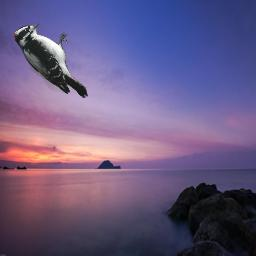Woodpecker: (14, 23, 88, 98)
